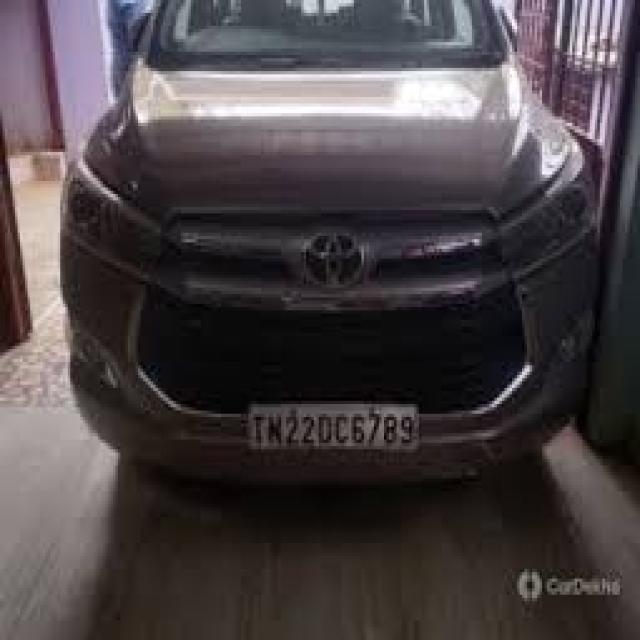light_vehicle: (61, 0, 602, 480)
